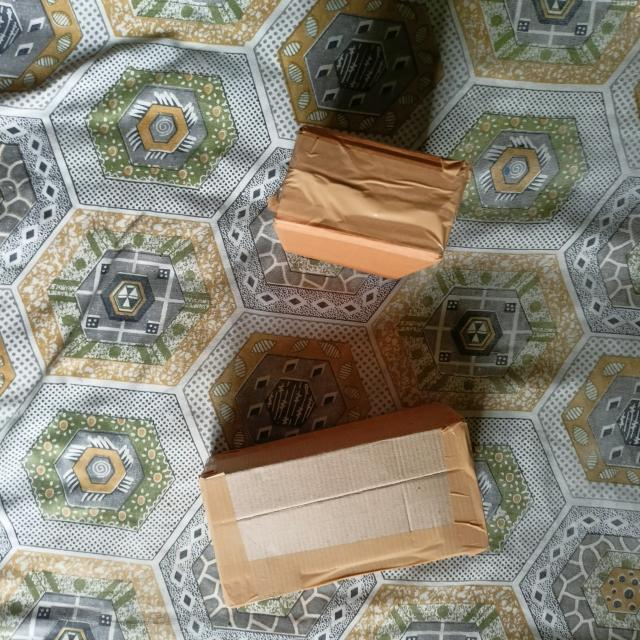box: (200, 419, 490, 609), (277, 126, 467, 259)
